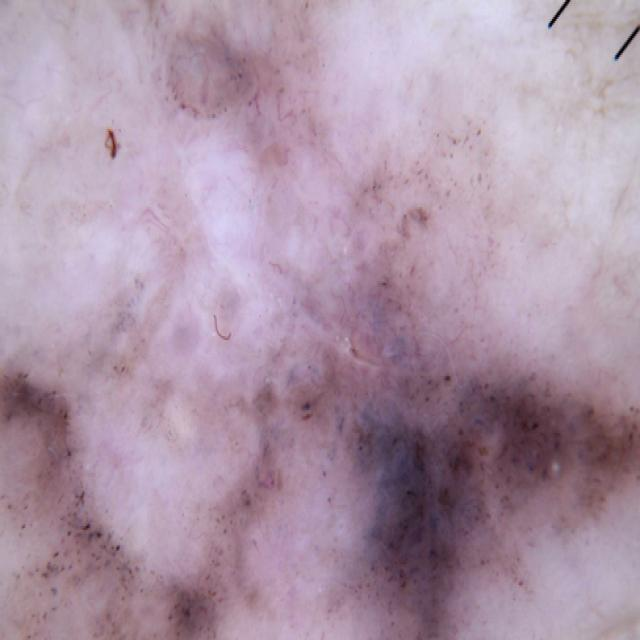Carcinoma: (0, 298, 308, 640), (348, 374, 640, 640), (147, 32, 438, 265)
